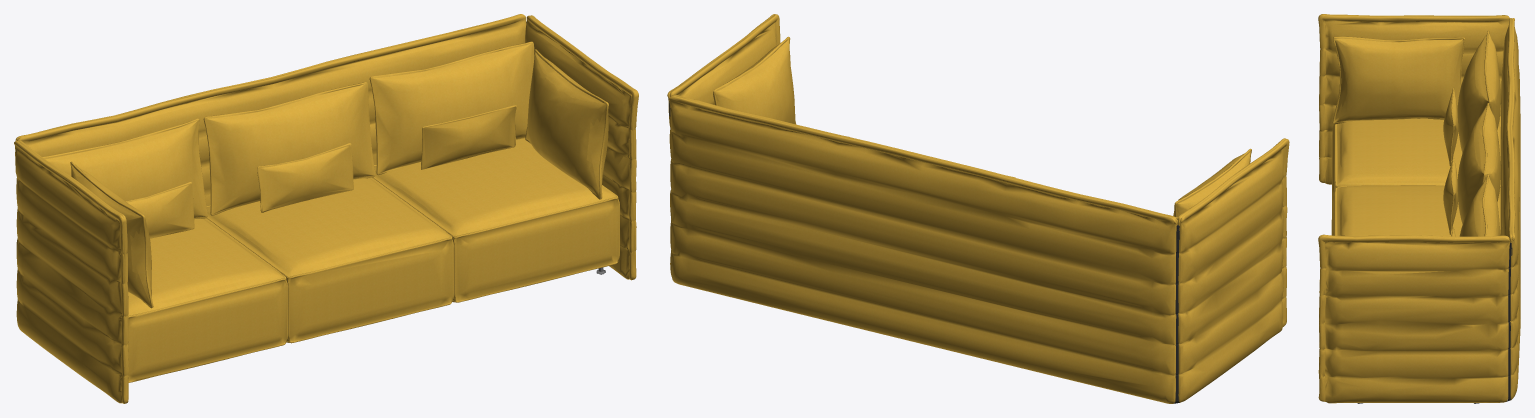
3 renders of one model, left to right at view 1: azimuth 30°, elevation 25°; view 2: azimuth 150°, elevation 25°; view 3: azimuth 270°, elevation 25°, orthographic. The views are drawn at different scales.
Parts seen in each view (by area): view 1: Object_4; view 2: Object_4, Object_46; view 3: Object_4, Object_43.
Boxes of the visible parts, x1,y1,x2,y2 form: Object_4: (14,14,638,403); Object_4: (667,14,1289,403); Object_46: (1174,225,1179,403); Object_4: (1318,14,1520,403); Object_43: (1506,242,1512,401).
Size of the model in its own units: 2352 by 833 by 885.
4 materials, 1 textured.
